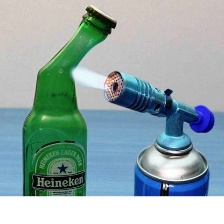bottle: (20, 2, 123, 196)
